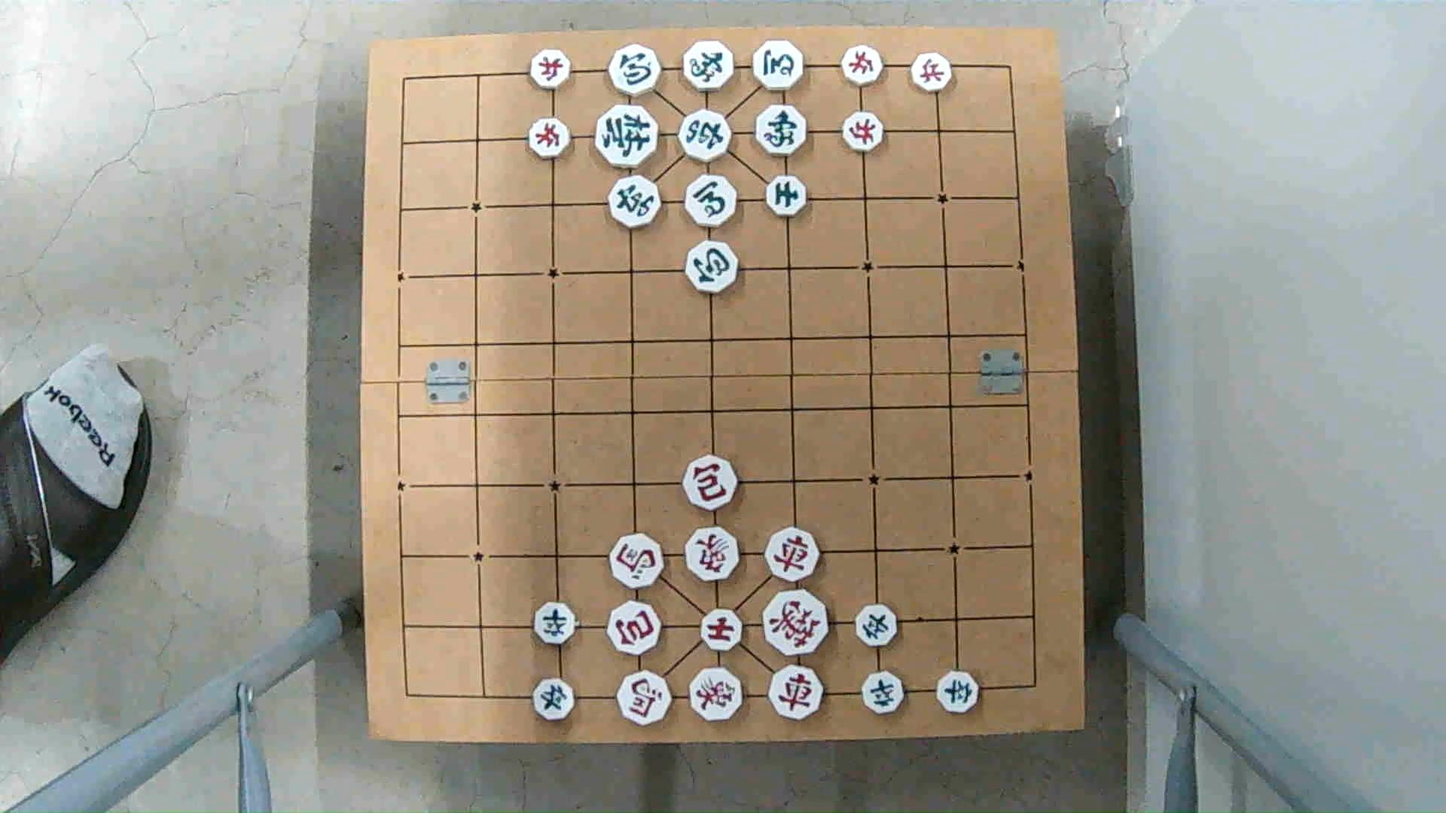cha_green: (606, 174, 660, 227), (678, 113, 735, 162)
cha_red: (765, 529, 822, 582), (771, 666, 828, 718)
jol_green: (933, 670, 984, 713), (532, 675, 577, 723), (853, 607, 900, 647), (535, 604, 578, 646), (863, 673, 904, 714)
jol_red: (911, 53, 955, 91), (527, 120, 572, 157), (841, 46, 883, 85), (531, 51, 573, 88), (841, 113, 884, 149)
ma_green: (684, 175, 738, 226), (754, 41, 810, 89)
ma_red: (619, 672, 676, 723), (612, 537, 668, 588)
po_green: (685, 238, 740, 293), (609, 47, 663, 93)
po_red: (682, 458, 739, 507), (609, 604, 663, 654)
sa_green: (763, 176, 807, 216)
sa_red: (700, 611, 745, 650)
sang_green: (753, 103, 809, 160), (683, 40, 733, 93)
sang_red: (687, 667, 743, 720), (685, 528, 742, 580)
wang_green: (595, 105, 658, 166)
wang_red: (763, 593, 832, 655)
